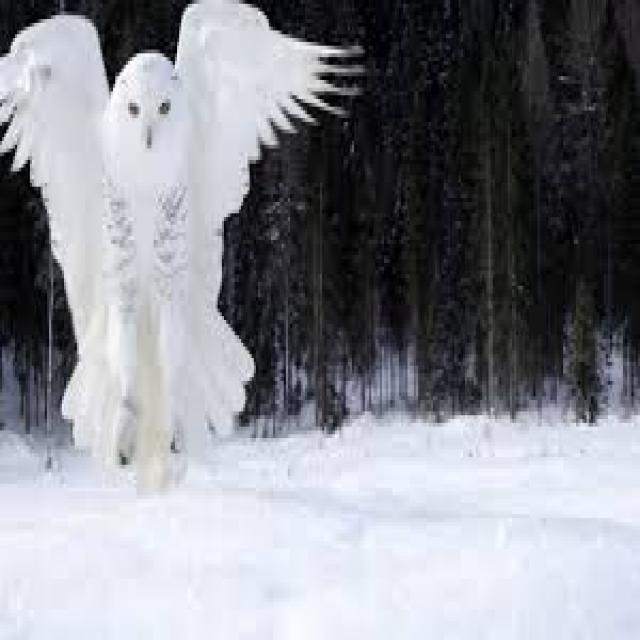snowy owl: (0, 0, 357, 459)
